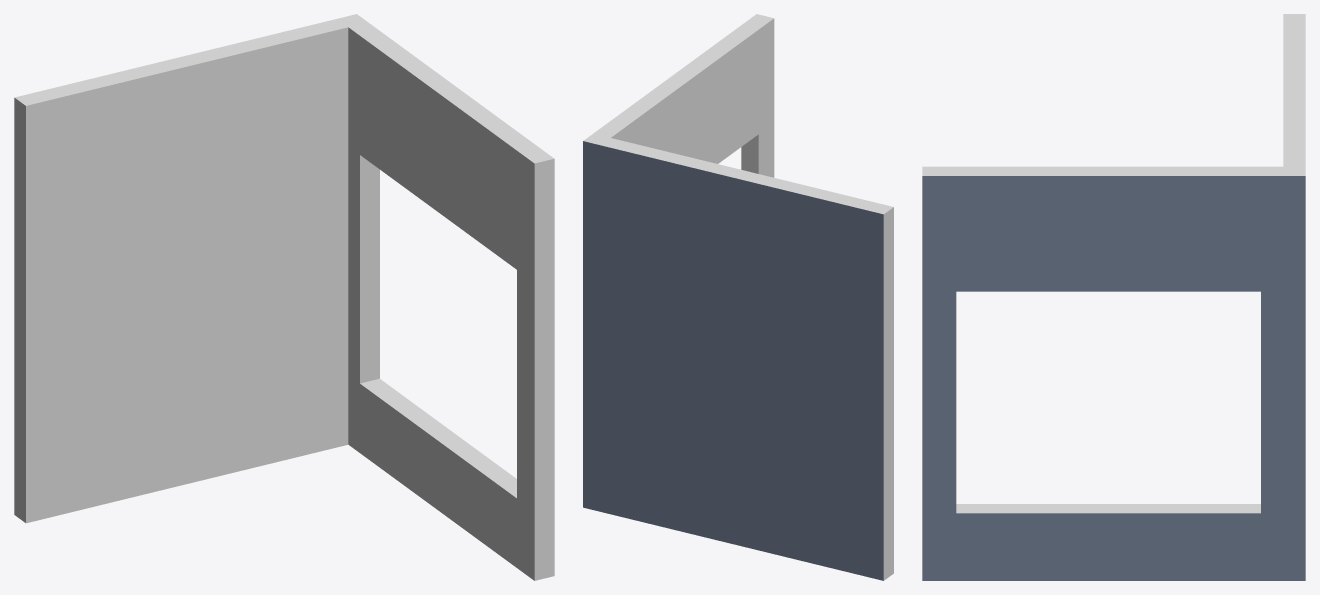
The model's file is Wall3_C2_14.fbx.
The picture shows the model from 3 angles, left to right: view 1: azimuth 30°, elevation 25°; view 2: azimuth 150°, elevation 25°; view 3: azimuth 270°, elevation 25°; orthographic projection. The views are drawn at different scales.
Visible parts, largest first — view 1: Wall3_C2_14; view 2: Wall3_C2_14; view 3: Wall3_C2_14.
Part boxes in pixels (x1=…): Wall3_C2_14: x1=14, y1=14, x2=554, y2=580; Wall3_C2_14: x1=583, y1=14, x2=893, y2=580; Wall3_C2_14: x1=922, y1=14, x2=1305, y2=580.
Bounding box in the file's own units: 258 × 300 × 258.
